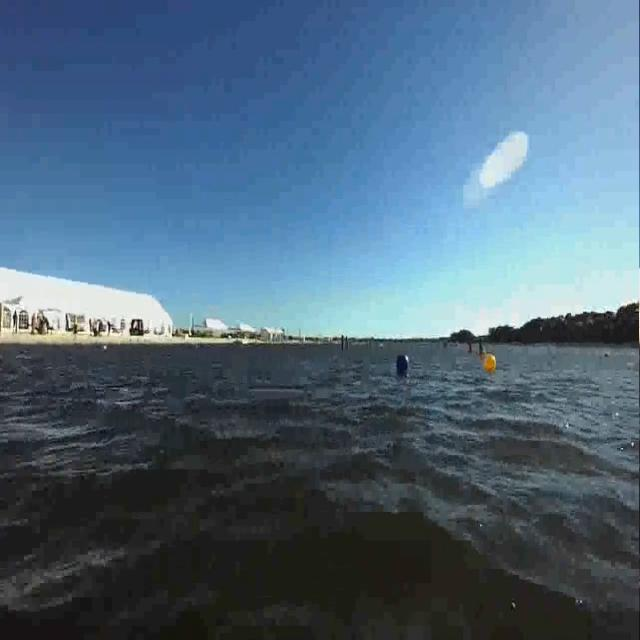blue-buoy: (397, 352, 411, 376)
yellow-buoy: (484, 352, 498, 373)
